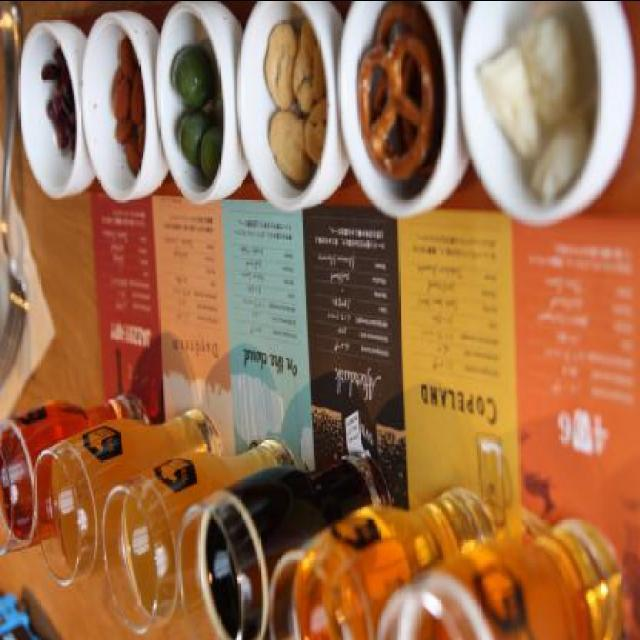Salatini packaged: (357, 33, 448, 181), (371, 0, 447, 176)
